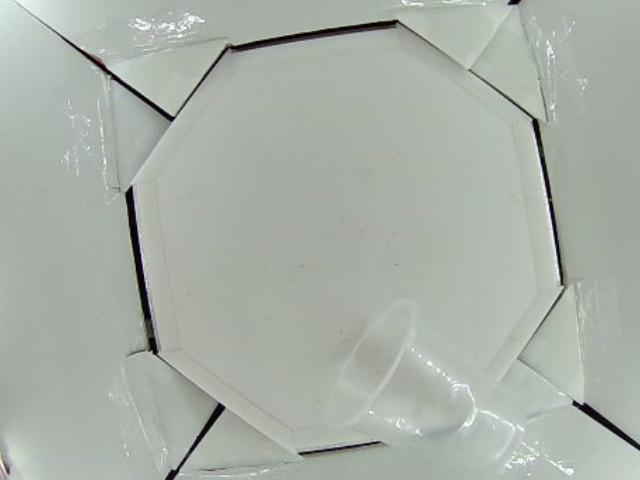Cup: (325, 298, 528, 475)
